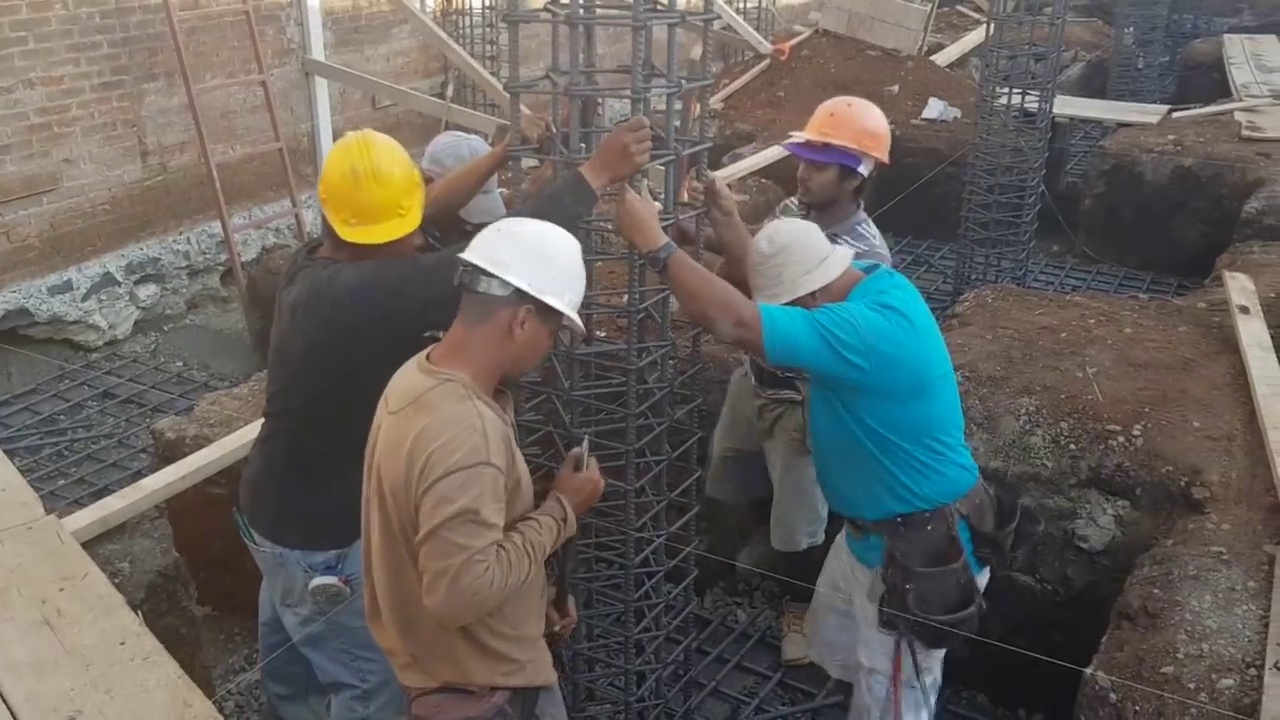helmet: (452, 214, 589, 329), (316, 128, 426, 248), (790, 91, 904, 169)
helmet-off: (745, 218, 875, 319), (421, 124, 502, 228)
helmet-on: (422, 208, 594, 411), (301, 126, 432, 273), (774, 88, 906, 215)
person: (614, 171, 985, 719), (228, 80, 461, 717), (357, 209, 597, 712), (697, 78, 904, 603)
